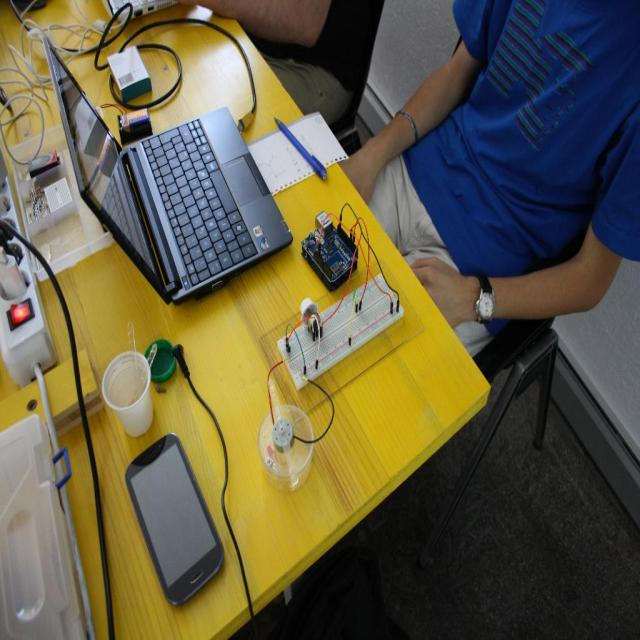Mobile-phone: (121, 437, 226, 596)
